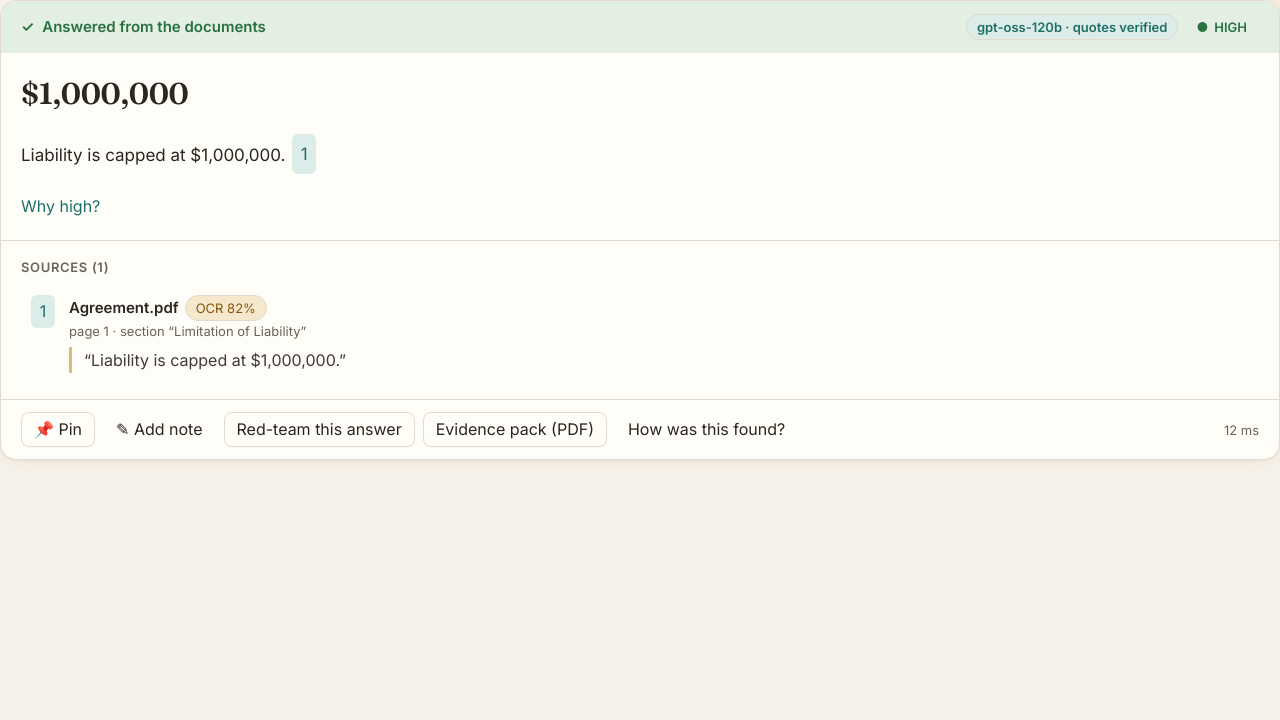
it: AnswerCard › reveals the reasoning behind the level on demand
Check: the text "Best passage covers" is not shown
Click the button "Why high?": x=61, y=207 [21,194,100,220]
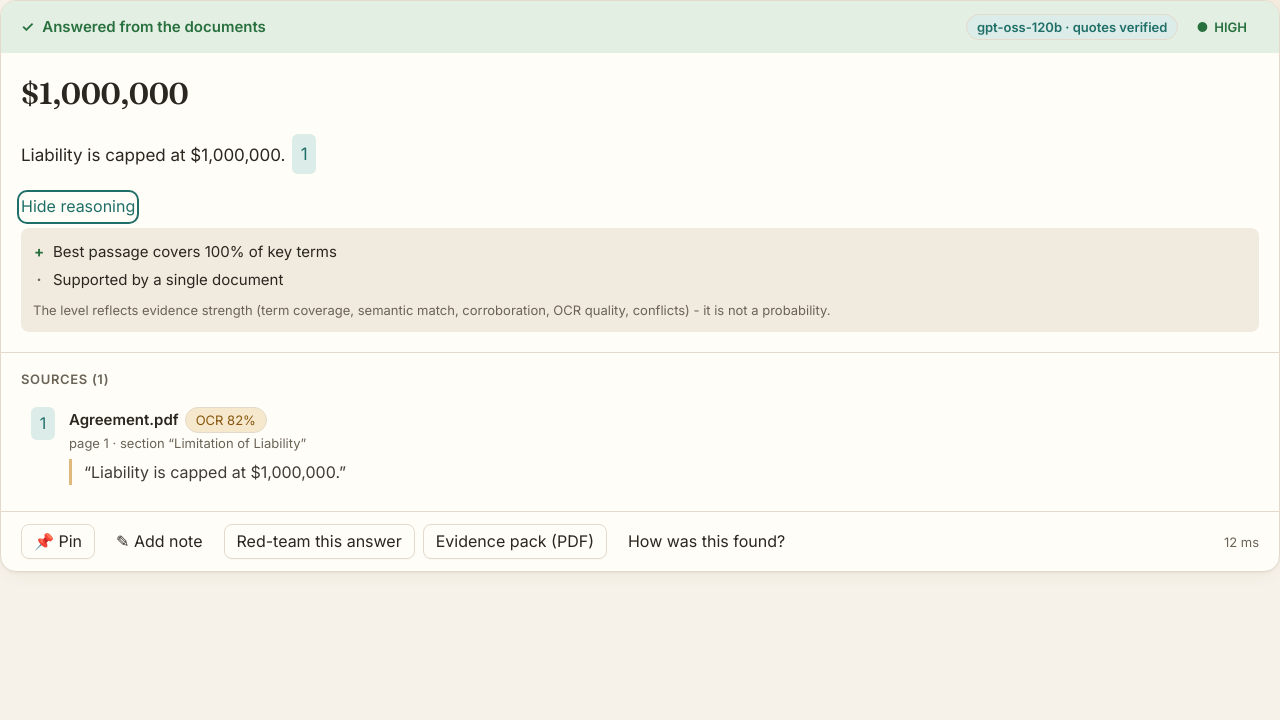
Check: the text "Best passage covers 100% of key terms" is shown, box [53,240,337,264]
Check: the list item "not a probability" is shown, box [33,302,830,318]
